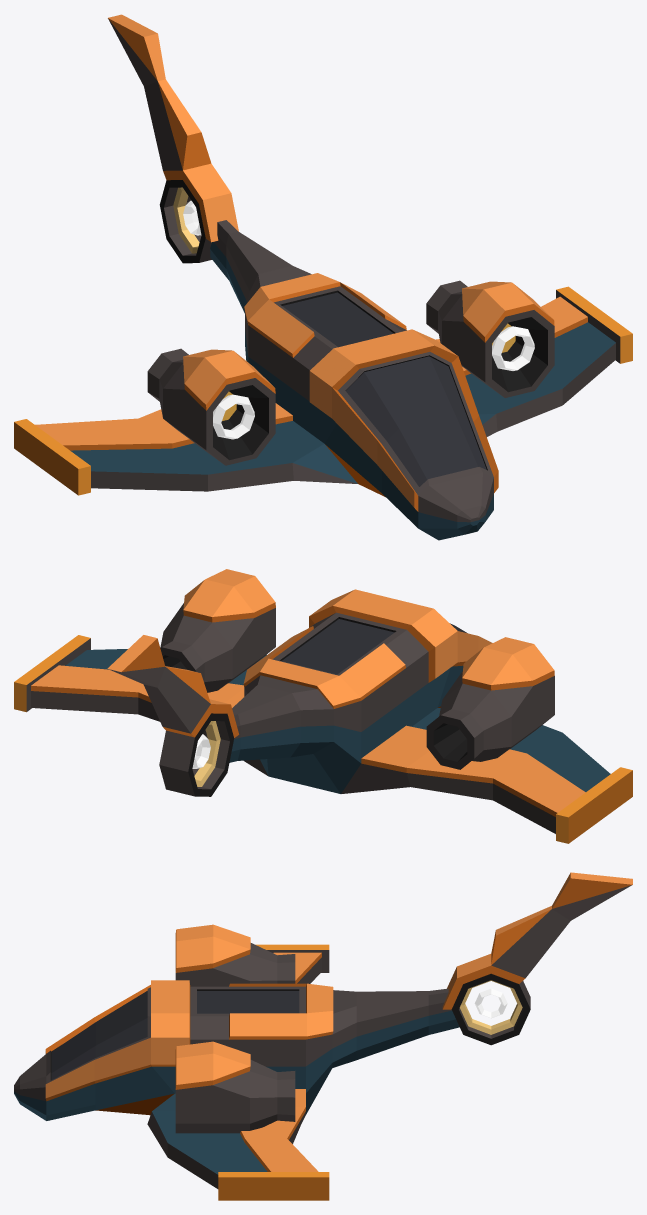
File: SpaceShip_03.glb
The picture shows the model from 3 angles, top to bottom: view 1: azimuth 30°, elevation 25°; view 2: azimuth 150°, elevation 25°; view 3: azimuth 270°, elevation 25°; orthographic projection. The views are drawn at different scales.
Visible parts, largest first — view 1: SpaceShip_03; view 2: SpaceShip_03; view 3: SpaceShip_03.
Boxes of the visible parts, x1,y1,x2,y2 form: SpaceShip_03: (14,14,632,540); SpaceShip_03: (14,569,632,843); SpaceShip_03: (14,872,632,1200).
Size of what is drawn, in the model's own units: 11.43 by 5.47 by 12.86.
2 materials, 2 textured.
